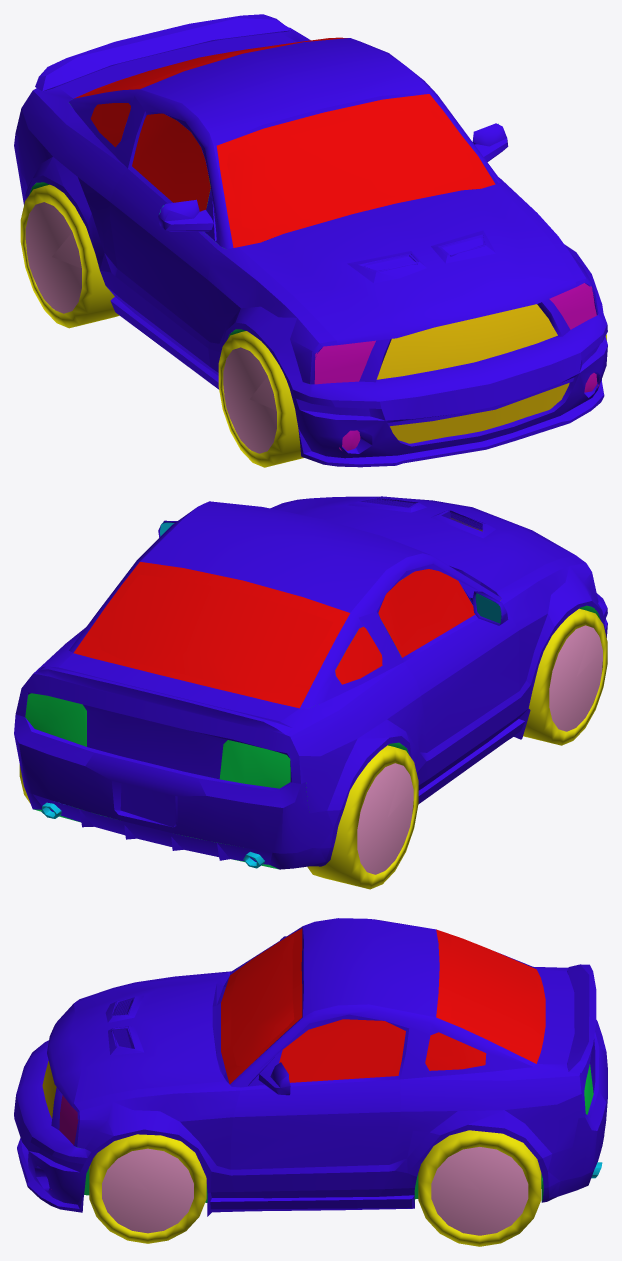
File: Car02_Low_ColorCoded.fbx
3 views of the same model, one above another, from view 1: azimuth 30°, elevation 25°; view 2: azimuth 150°, elevation 25°; view 3: azimuth 270°, elevation 25° (orthographic). The views are drawn at different scales.
Parts seen in each view (by area): view 1: carBody_low, tireBackR_low, tireFrontR_low; view 2: carBody_low, tireBackR_low, tireFrontR_low; view 3: carBody_low, tireBackL_low, tireFrontL_low.
Boxes of the visible parts, x1,y1,x2,y2 form: carBody_low: (14, 14, 607, 467); tireBackR_low: (20, 184, 119, 328); tireFrontR_low: (218, 331, 303, 467); carBody_low: (14, 496, 607, 869); tireBackR_low: (307, 745, 418, 889); tireFrontR_low: (523, 608, 607, 745); carBody_low: (14, 918, 607, 1216); tireBackL_low: (418, 1130, 541, 1246); tireFrontL_low: (89, 1134, 206, 1243).
Size of the model in its own units: 65.02 by 114 by 46.81.
